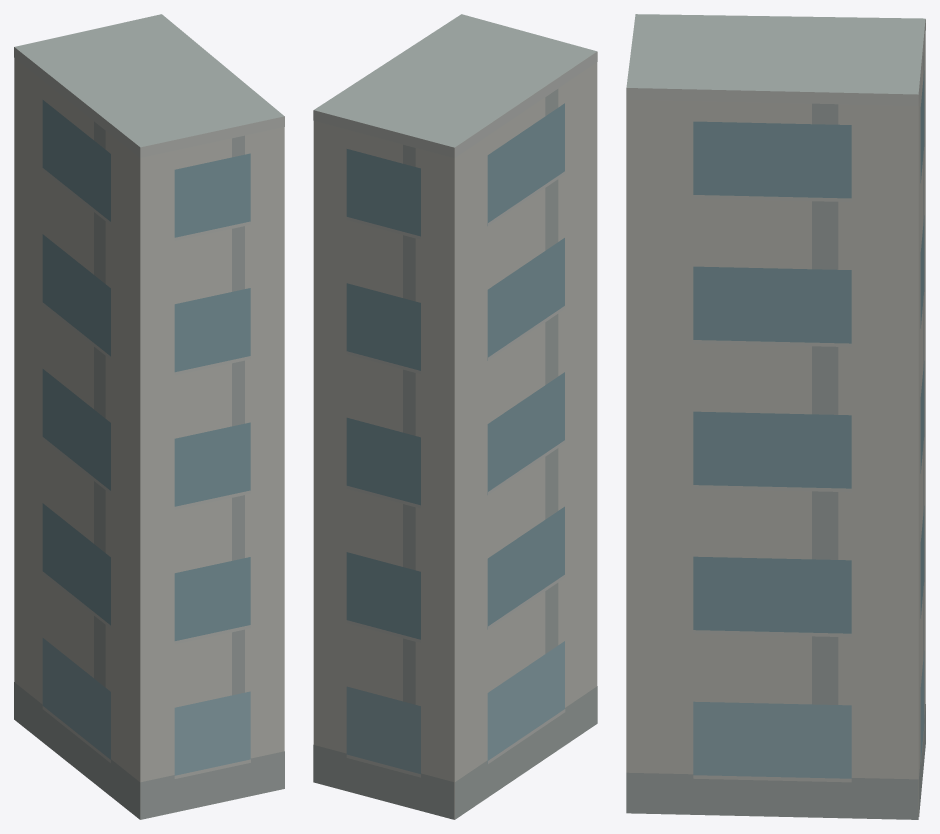
File: survey-upis-32737037.glb
3 views of the same model, side by side, from view 1: azimuth 30°, elevation 25°; view 2: azimuth 150°, elevation 25°; view 3: azimuth 270°, elevation 25° (orthographic). The views are drawn at different scales.
Parts seen in each view (by area): view 1: survey-upis-32737037.tmp; view 2: survey-upis-32737037.tmp; view 3: survey-upis-32737037.tmp.
Boxes of the visible parts, x1=… form: survey-upis-32737037.tmp: x1=14, y1=14, x2=284, y2=819; survey-upis-32737037.tmp: x1=313, y1=14, x2=597, y2=819; survey-upis-32737037.tmp: x1=626, y1=14, x2=925, y2=819.
Bounding box in the file's own units: 3.64 × 15.25 × 5.71.
